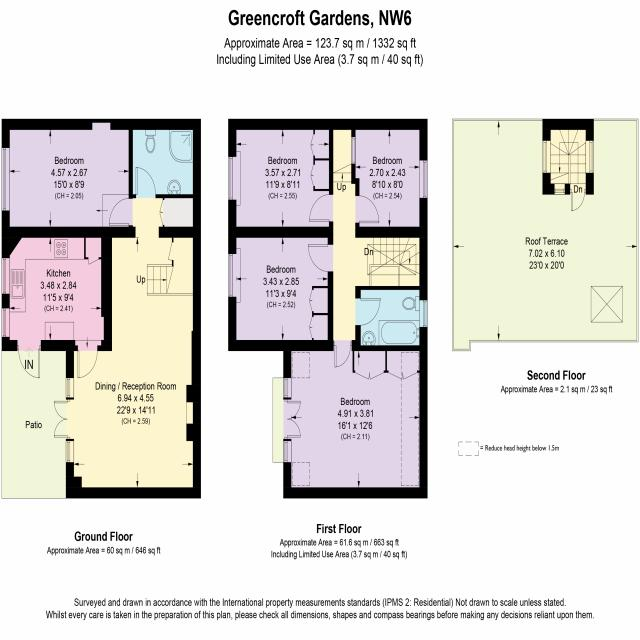DOOR: (74, 339, 102, 379), (17, 339, 41, 379), (307, 244, 334, 273), (308, 193, 334, 223), (355, 297, 381, 327), (355, 194, 380, 224), (135, 166, 157, 199), (108, 198, 133, 226), (333, 339, 353, 368)
DOUBLE DOOR: (283, 398, 302, 440), (53, 400, 71, 439)
ROOM: (53, 226, 201, 499), (283, 343, 428, 503), (1, 119, 133, 257), (1, 226, 112, 379), (228, 226, 334, 352), (228, 118, 334, 238), (351, 118, 428, 238)
WINDOW: (1, 147, 10, 212), (227, 155, 237, 201), (228, 252, 237, 299), (419, 159, 428, 199), (1, 258, 10, 294), (1, 308, 10, 338), (419, 299, 428, 329), (283, 440, 292, 463), (283, 377, 292, 399), (65, 377, 74, 398), (66, 440, 74, 463), (351, 136, 356, 165)
